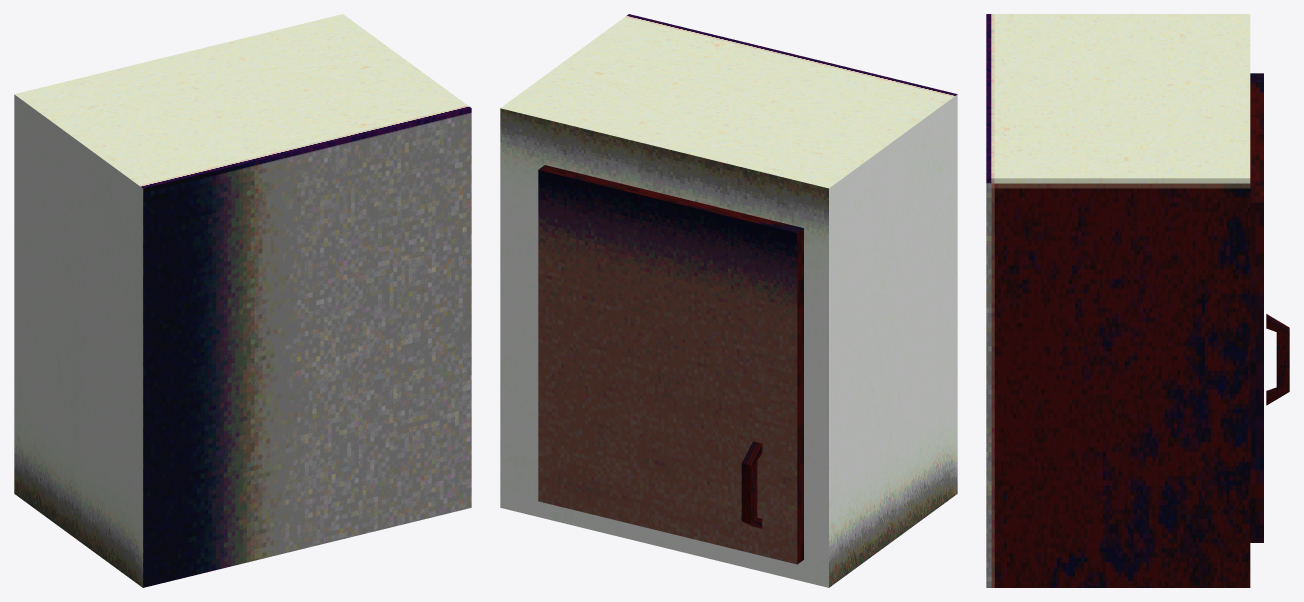
Rendered from SingleCabinet.obj.
3 views of the same model, side by side, from view 1: azimuth 30°, elevation 25°; view 2: azimuth 150°, elevation 25°; view 3: azimuth 270°, elevation 25° (orthographic). The views are drawn at different scales.
Parts seen in each view (by area): view 1: Cube.047; view 2: Cube.047; view 3: Cube.047.
Part boxes in pixels (bbox=[...]): Cube.047: bbox=[14, 14, 471, 587]; Cube.047: bbox=[500, 14, 957, 587]; Cube.047: bbox=[986, 14, 1289, 587].
Size of the model in its own units: 1.61 by 1.87 by 1.26.
